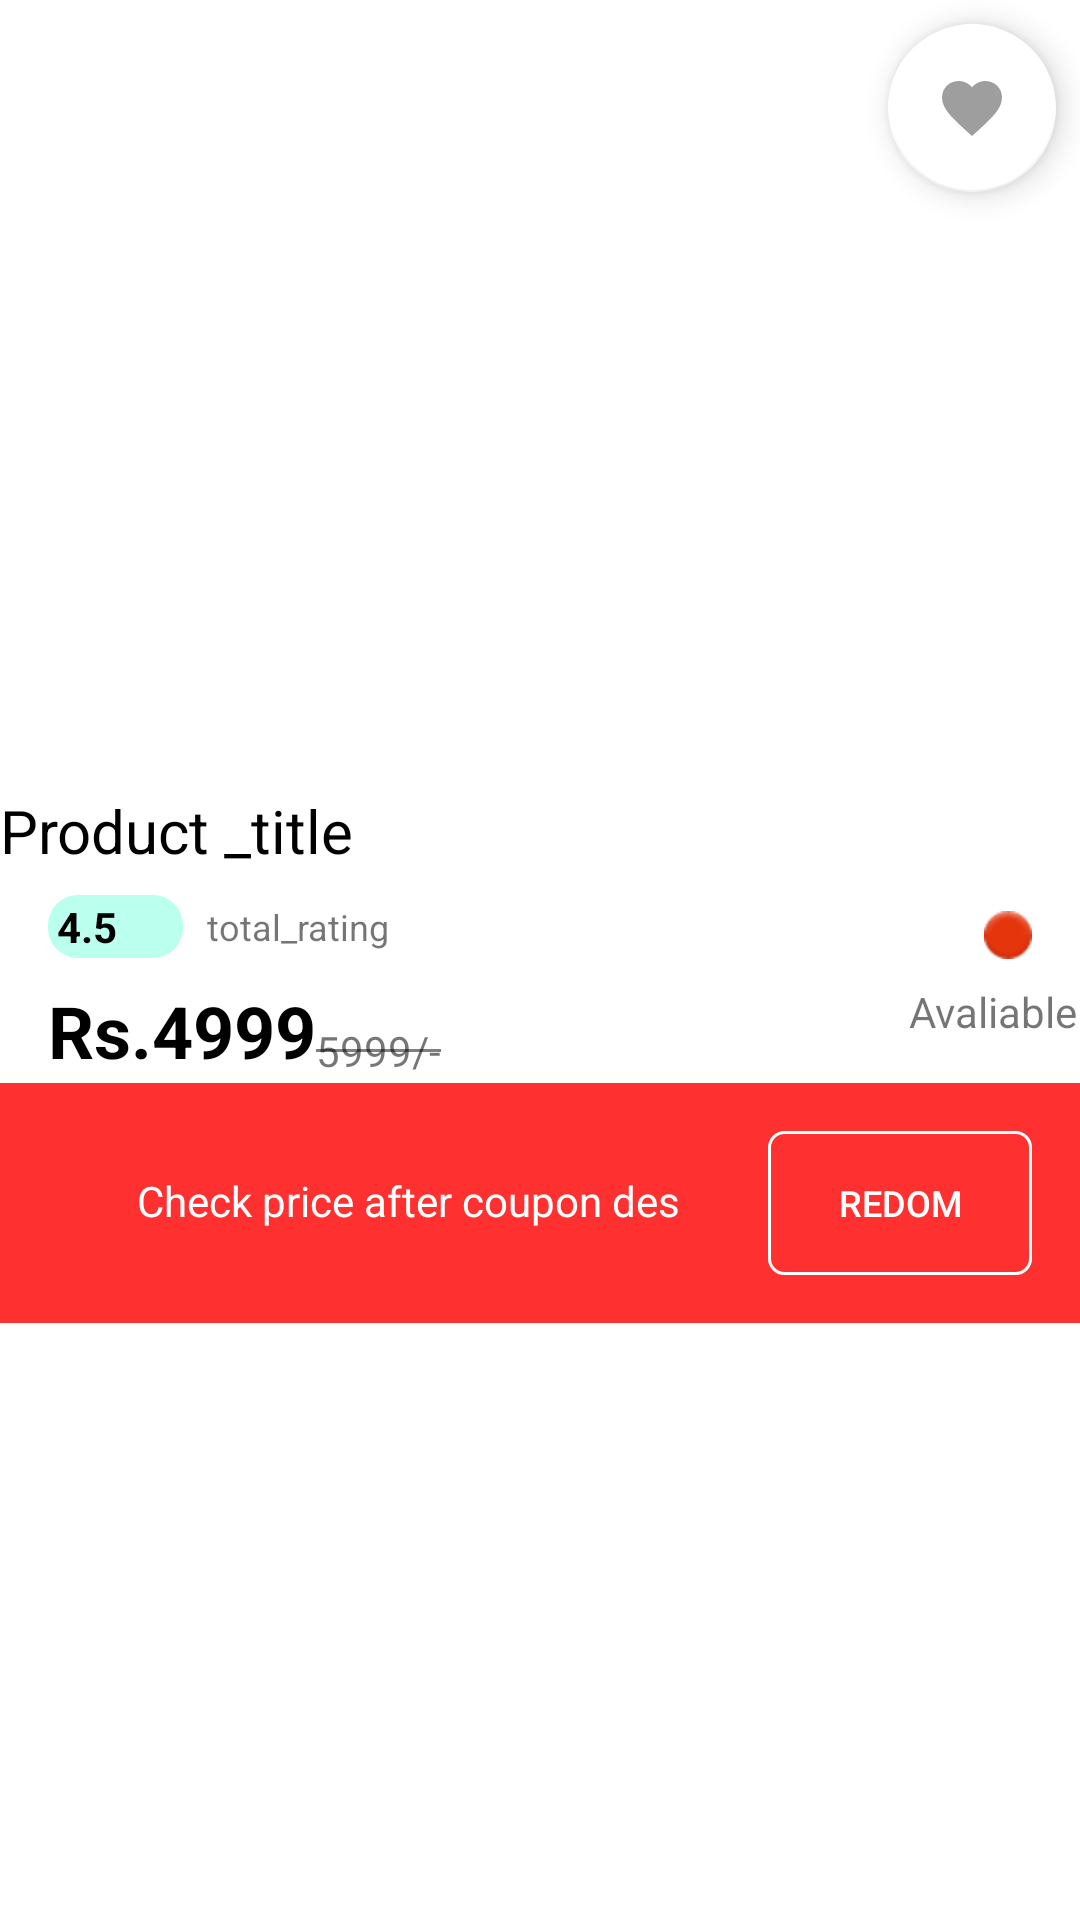

Screen size 1080w x 1920h. Icon name, then its center in pixels as (x,y):
favorite: (999,113)
